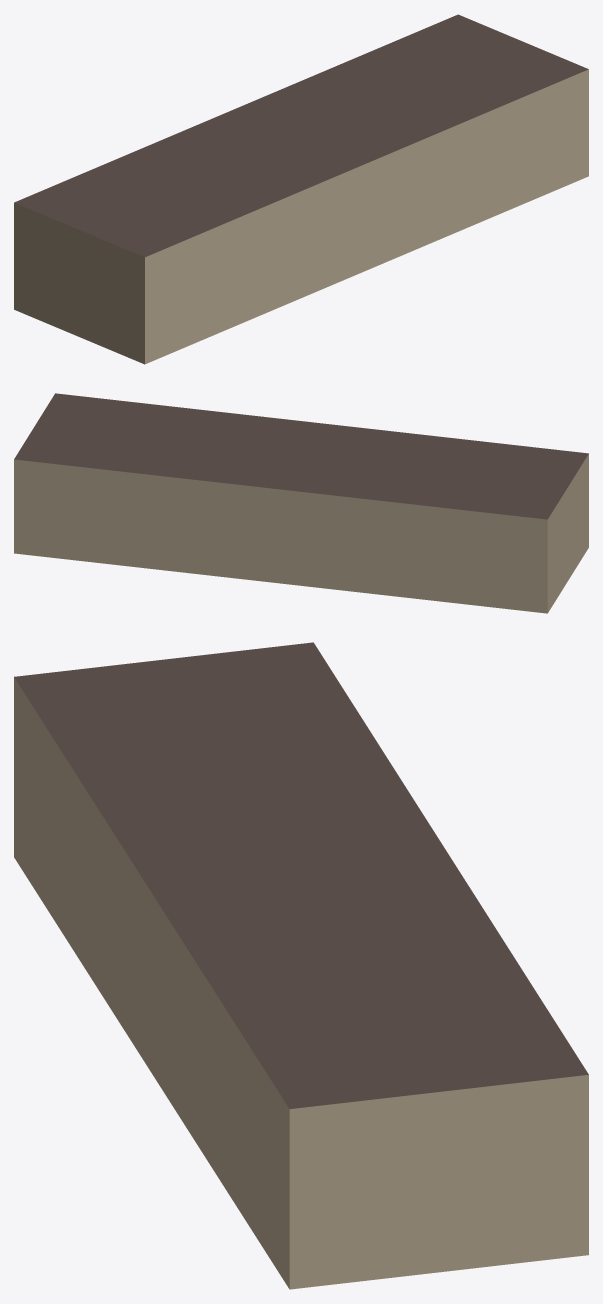
3 views of the same model, one above another, from view 1: azimuth 30°, elevation 25°; view 2: azimuth 150°, elevation 25°; view 3: azimuth 270°, elevation 25° (orthographic). The views are drawn at different scales.
Parts seen in each view (by area): view 1: HP-w859082579; view 2: HP-w859082579; view 3: HP-w859082579.
Boxes of the visible parts, <box> form: HP-w859082579: <box>14,14,588,364</box>; HP-w859082579: <box>14,393,588,613</box>; HP-w859082579: <box>14,642,588,1289</box>.
Bounding box in the file's own units: 49.95 × 9 × 26.
